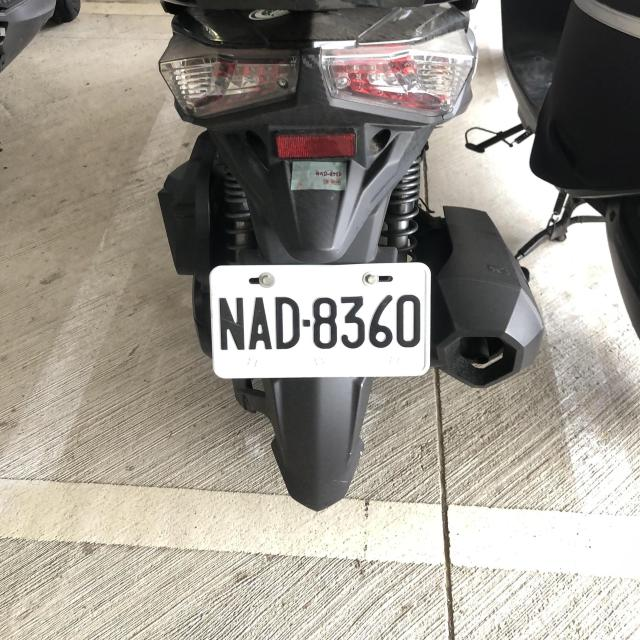W: (210, 258, 432, 382)
